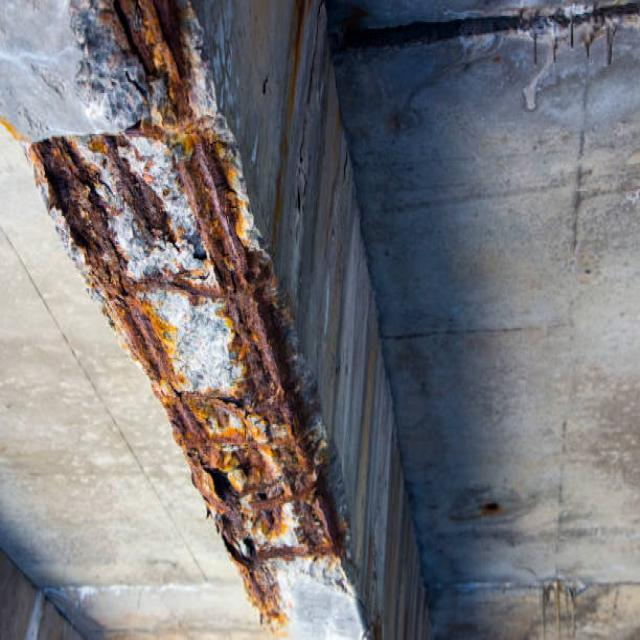stain_mould: (32, 136, 342, 620)
